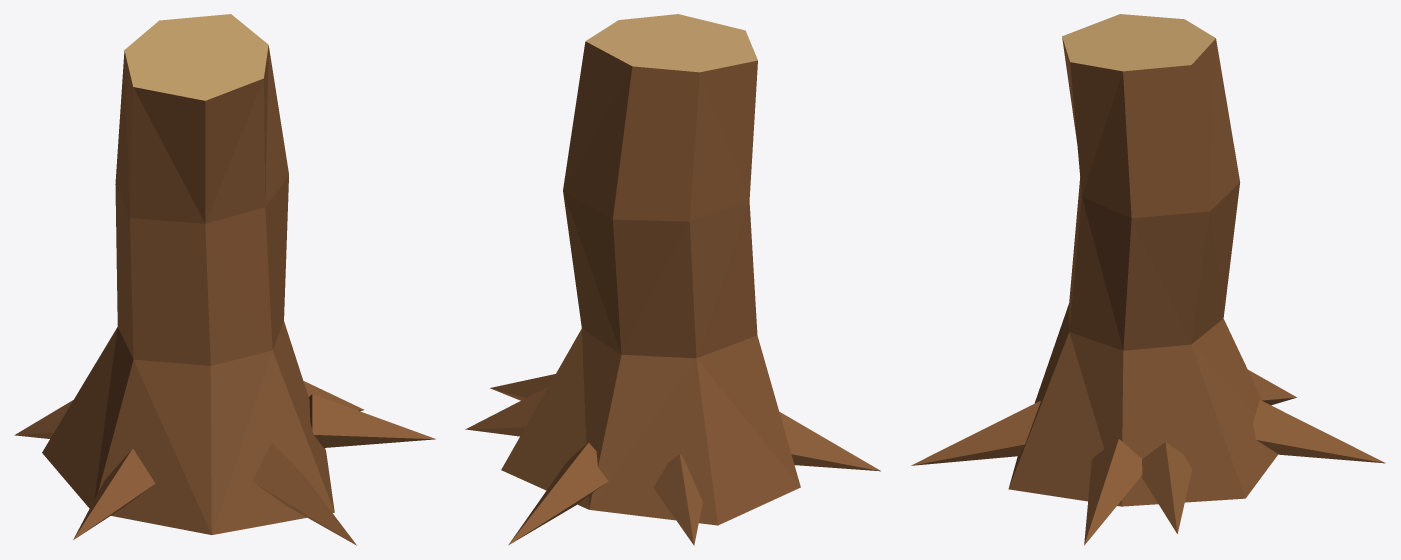
Rendered from HS_LP_Stump_Tall_01.fbx.
3 views of the same model, side by side, from view 1: azimuth 30°, elevation 25°; view 2: azimuth 150°, elevation 25°; view 3: azimuth 270°, elevation 25° (orthographic). The views are drawn at different scales.
Visible parts, largest first — view 1: HS_LP_Stump_Tall_01; view 2: HS_LP_Stump_Tall_01; view 3: HS_LP_Stump_Tall_01.
Part boxes in pixels (box(x1,y1,x2,y2)): HS_LP_Stump_Tall_01: box(14, 14, 435, 545); HS_LP_Stump_Tall_01: box(465, 14, 880, 545); HS_LP_Stump_Tall_01: box(911, 14, 1385, 545).
Size of the model in its own units: 114 by 125 by 129.
